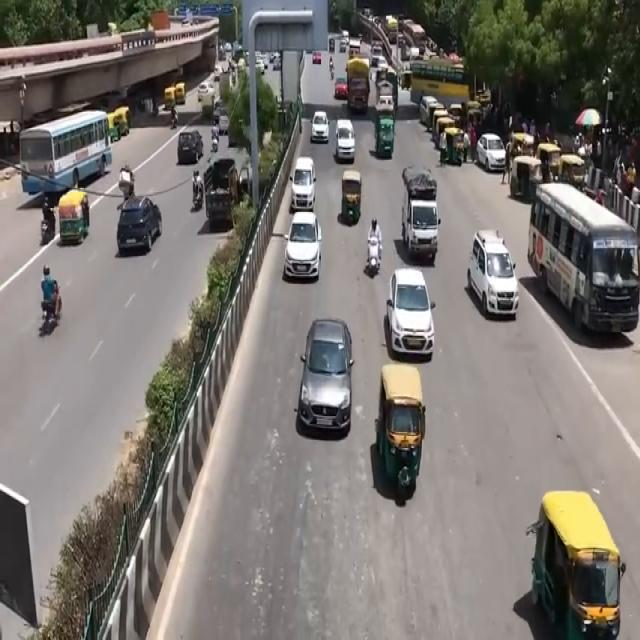BUS: (528, 184, 639, 344), (21, 110, 114, 201)
SED: (298, 315, 351, 438)
TRUCK: (402, 168, 440, 264)
